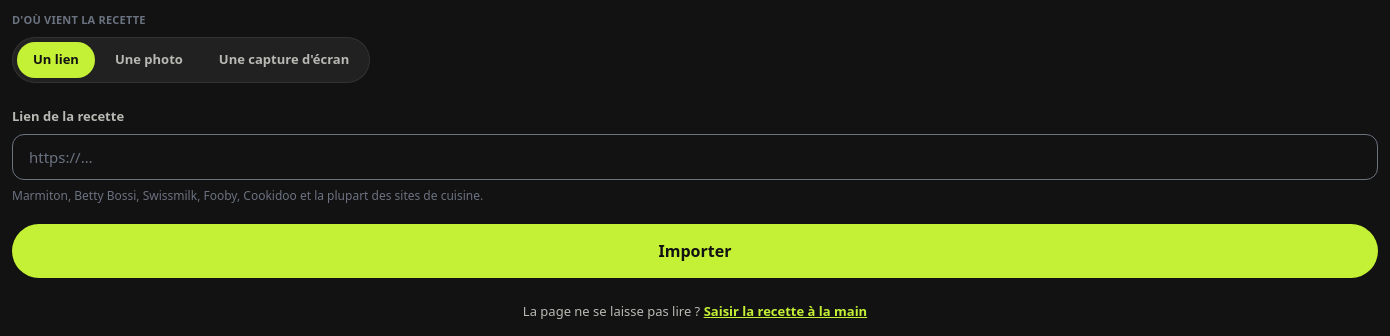
Scenario: ImportForm › says what a photo import costs instead of offering a dead button
The image size is (1390, 336).
Click the button with test id "source-PHOTO" at (149, 60), box top-left (99, 42), bottom-right (199, 78)
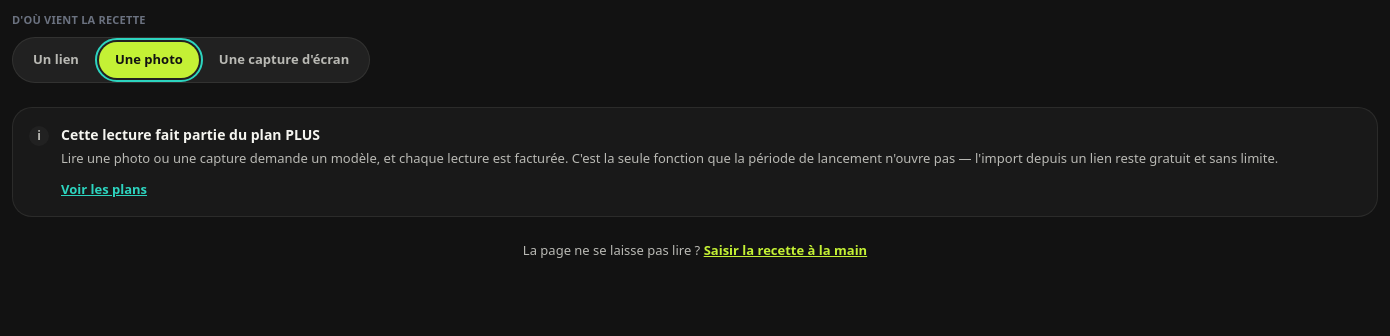
Now the message with test id "import-closed-PLAN" shows "plan PLUS", box top-left (61, 124), bottom-right (320, 144)
